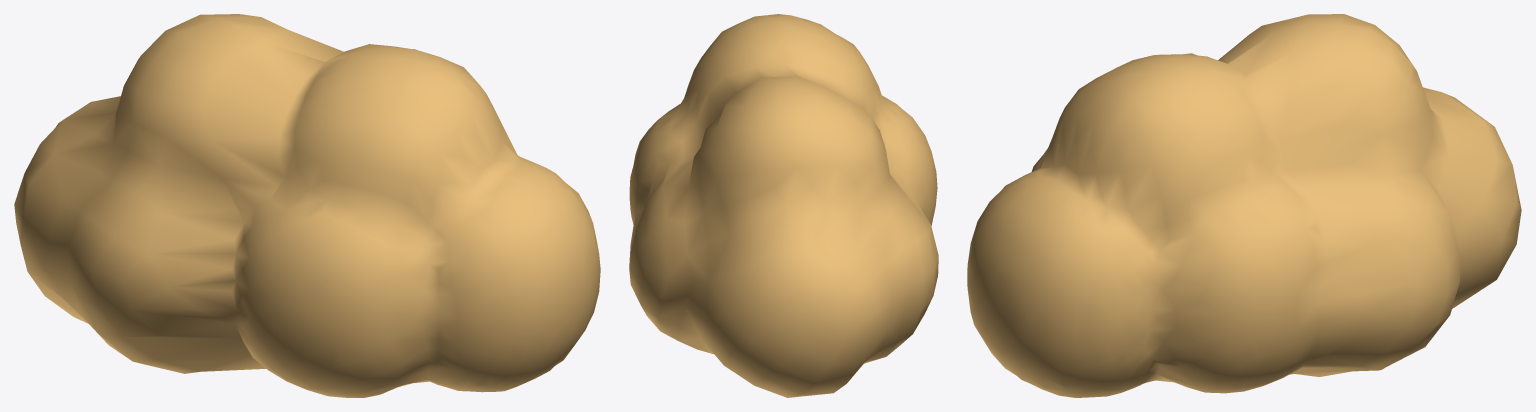
Rendered from nuagejaune.fbx.
3 renders of one model, left to right at view 1: azimuth 30°, elevation 25°; view 2: azimuth 150°, elevation 25°; view 3: azimuth 270°, elevation 25°, orthographic. The views are drawn at different scales.
Parts seen in each view (by area): view 1: pPlatonic15; view 2: pPlatonic15; view 3: pPlatonic15.
Boxes of the visible parts, bbox=[...] form: pPlatonic15: bbox=[14, 14, 600, 397]; pPlatonic15: bbox=[629, 14, 938, 397]; pPlatonic15: bbox=[967, 14, 1521, 397].
Bounding box in the file's own units: 6.56 × 5.24 × 8.06.
